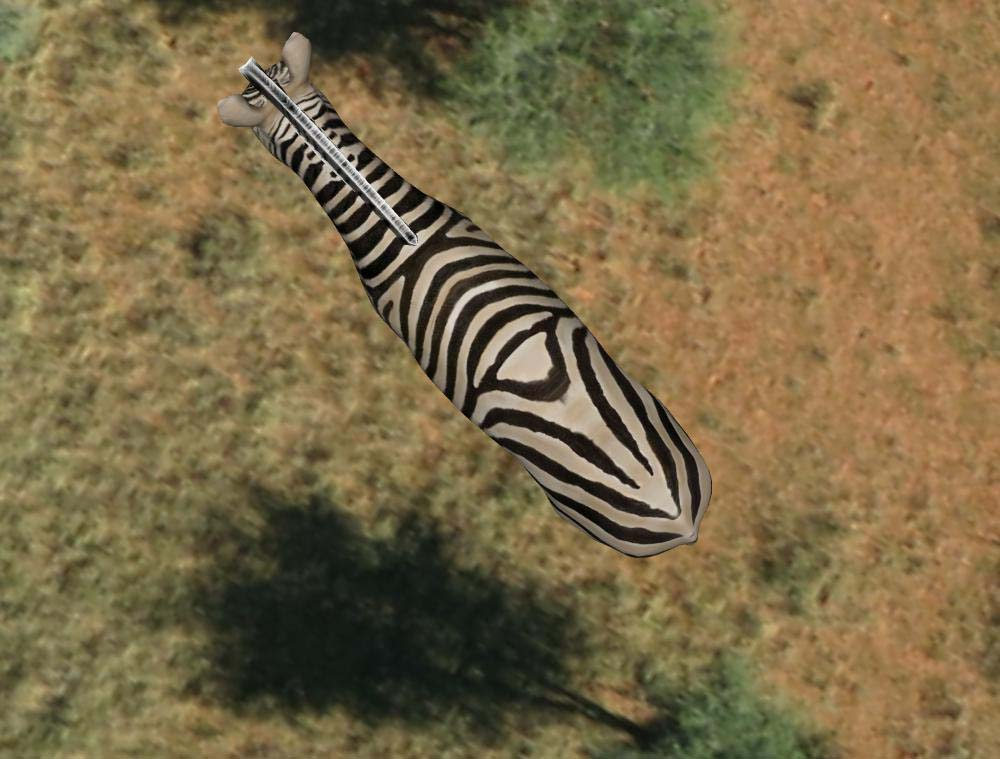zebra: (207, 29, 713, 564)
